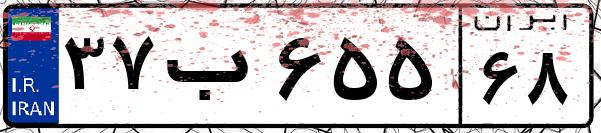3: (57, 26, 110, 100)
5: (385, 28, 445, 110), (330, 28, 385, 110)
6: (270, 28, 330, 110), (475, 38, 525, 113)
7: (110, 28, 158, 98)
8: (525, 38, 570, 115)
ب: (158, 20, 270, 120)
